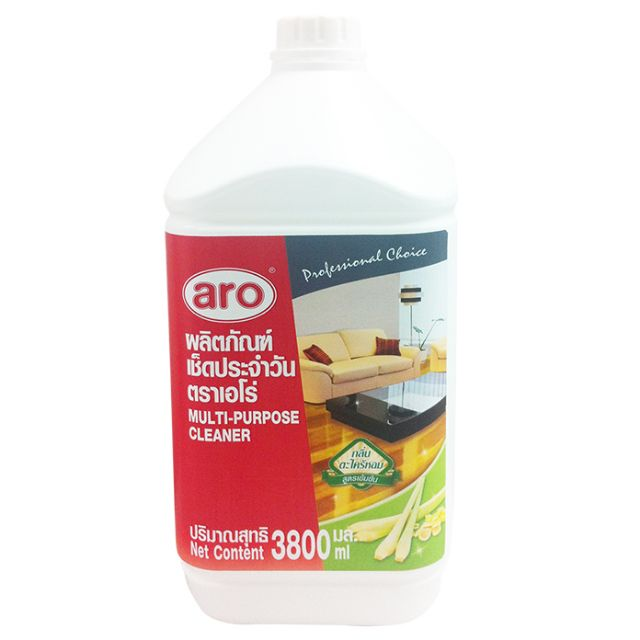Cleaning_solution: (156, 9, 459, 631)
